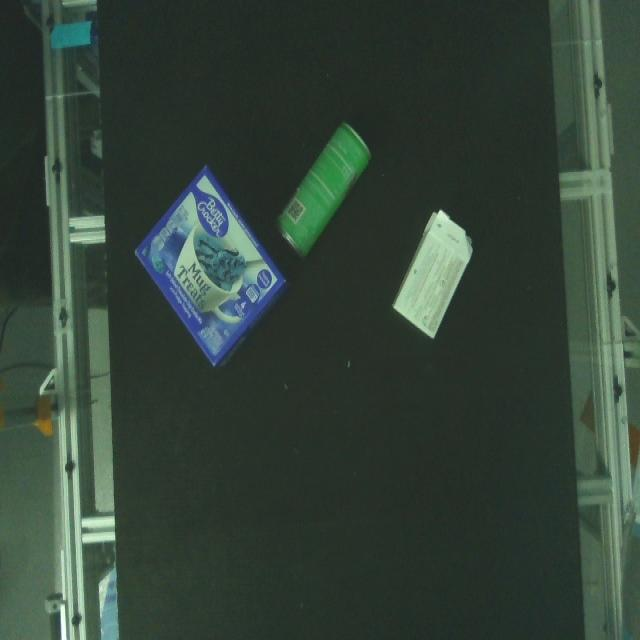non-paper: (281, 116, 375, 268)
paper: (135, 168, 294, 386), (382, 200, 479, 352)
